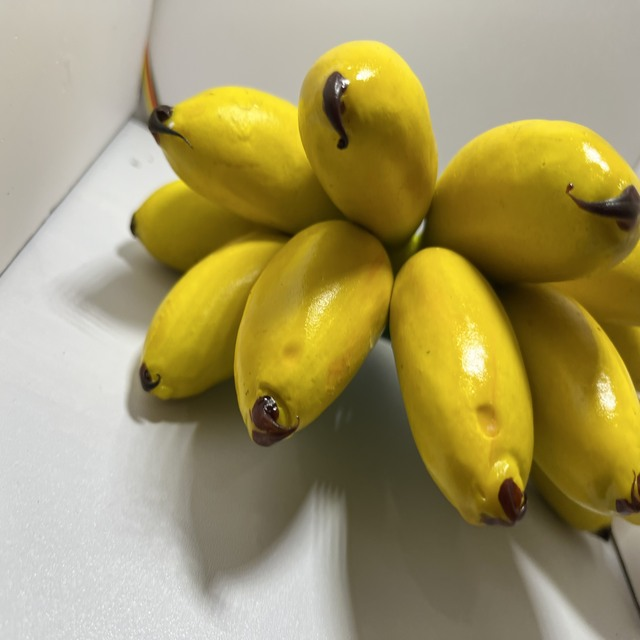Chuoi: (115, 37, 640, 551)
